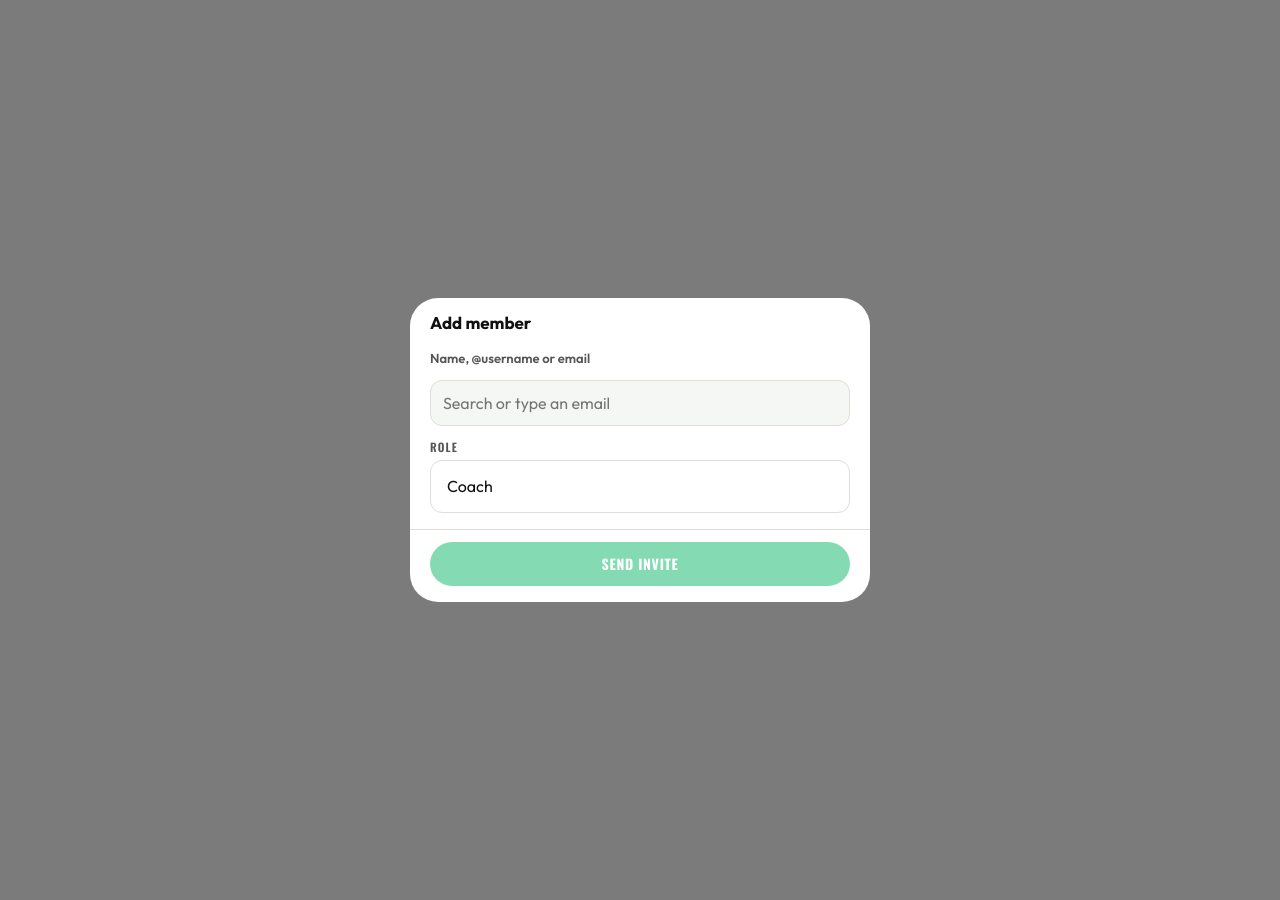
Test case: AddMemberSheet: finding someone › labels members and invitees, and they can't be picked
In the field labelled "Name, @username or email": coordinates (640, 403) [430,380,850,426], type "an"
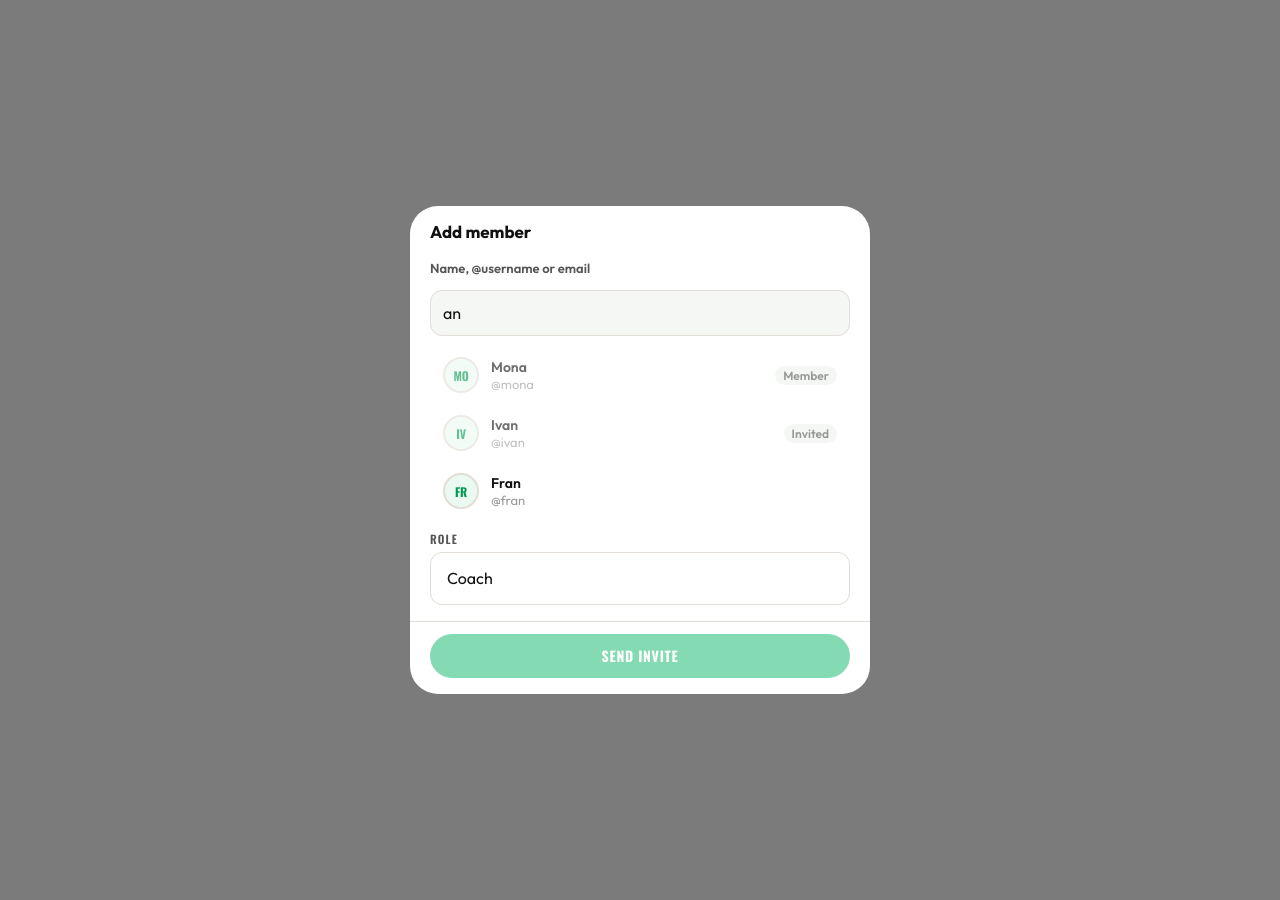
Expected: the button "MO Mona @mona Member" is disabled, [430,348,850,402]
Expected: the button "MO Mona @mona Member" is shown, [430,348,850,402]
Expected: the button "IV Ivan @ivan Invited" is disabled, [430,406,850,460]
